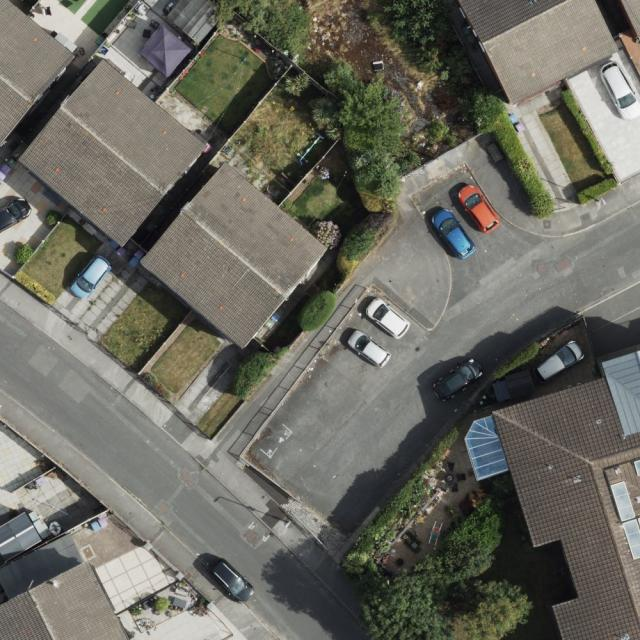roof: (493, 349, 640, 640), (19, 58, 209, 251), (141, 161, 331, 352), (458, 0, 623, 107), (0, 0, 75, 147), (0, 557, 131, 640), (622, 1, 640, 42)
solar: (610, 479, 640, 562), (634, 461, 640, 478)
